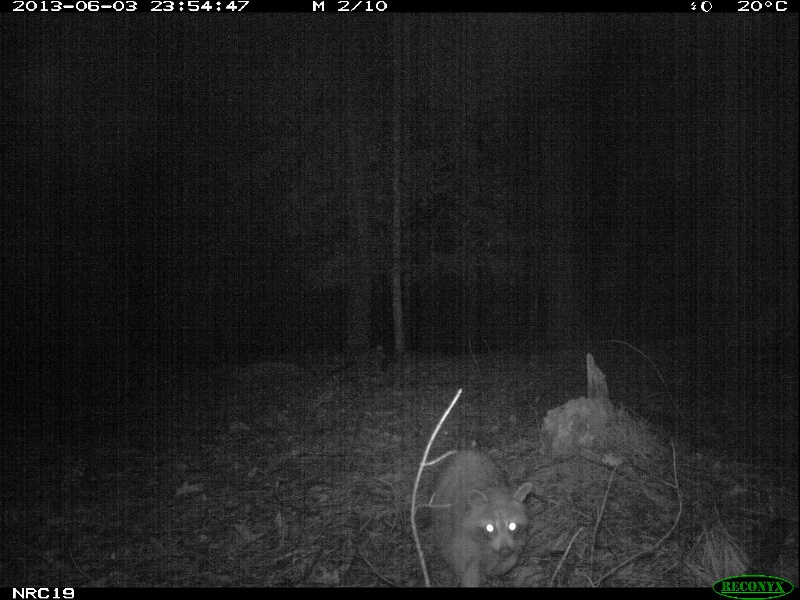raccoon: (428, 447, 533, 583)
